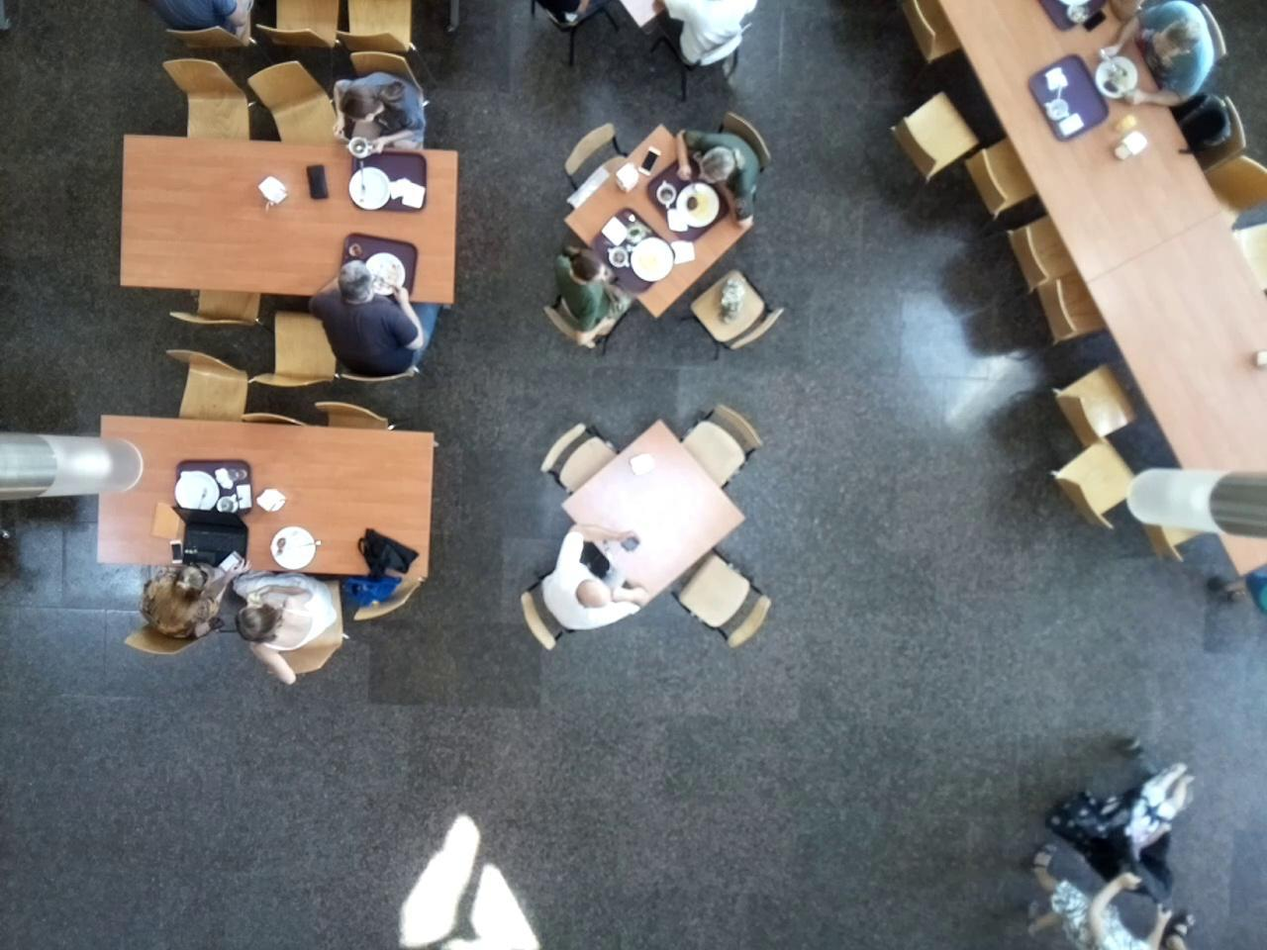person: (302, 224, 449, 410), (512, 517, 661, 659), (667, 110, 771, 249), (540, 218, 649, 349), (1105, 2, 1218, 120), (233, 562, 345, 672), (1077, 767, 1190, 874), (128, 554, 233, 663), (330, 63, 428, 171)
